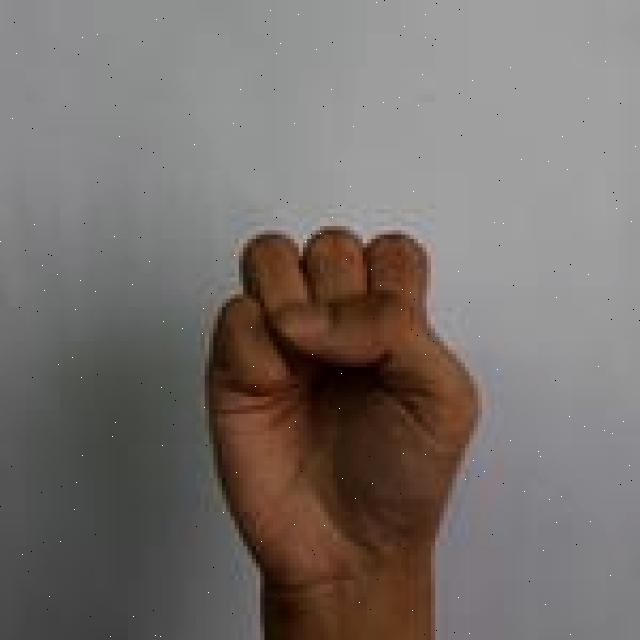S: (202, 220, 487, 640)
